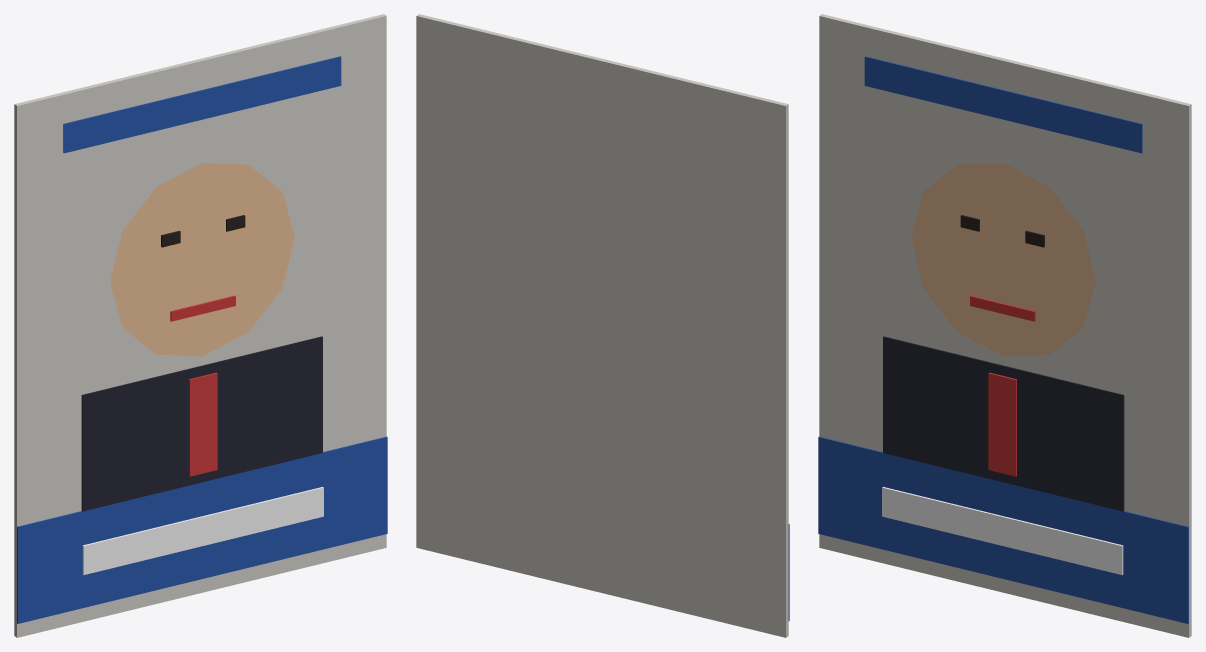
Rendered from deputy_poster.glb.
The picture shows the model from 3 angles, left to right: view 1: azimuth 30°, elevation 25°; view 2: azimuth 150°, elevation 25°; view 3: azimuth 330°, elevation 25°; orthographic projection.
Visible parts, largest first — view 1: paper_poster_paper, band_poster_blue, face_poster_skin, suit_poster_suit, title_poster_blue, letters_poster_white, tie_poster_tie, smile_poster_tie, eyes_poster_ink; view 2: paper_poster_paper; view 3: paper_poster_paper, band_poster_blue, face_poster_skin, suit_poster_suit, title_poster_blue, letters_poster_white, tie_poster_tie, smile_poster_tie, eyes_poster_ink.
Boxes of the visible parts, x1,y1,x2,y2 form: paper_poster_paper: (14,14,386,637); band_poster_blue: (17,436,387,623); face_poster_skin: (110,163,294,356); suit_poster_suit: (81,336,322,511); title_poster_blue: (63,56,341,153); letters_poster_white: (82,487,323,574); tie_poster_tie: (189,372,217,476); smile_poster_tie: (170,295,235,321); eyes_poster_ink: (161,215,245,247); paper_poster_paper: (416,14,788,637); paper_poster_paper: (819,14,1191,637); band_poster_blue: (818,436,1188,623); face_poster_skin: (911,163,1095,356); suit_poster_suit: (883,336,1124,511); title_poster_blue: (864,56,1142,153); letters_poster_white: (882,487,1123,574); tie_poster_tie: (988,372,1016,476); smile_poster_tie: (970,295,1035,321); eyes_poster_ink: (960,215,1044,247).
Size of the model in its own units: 0.4 by 0.55 by 0.0085.
